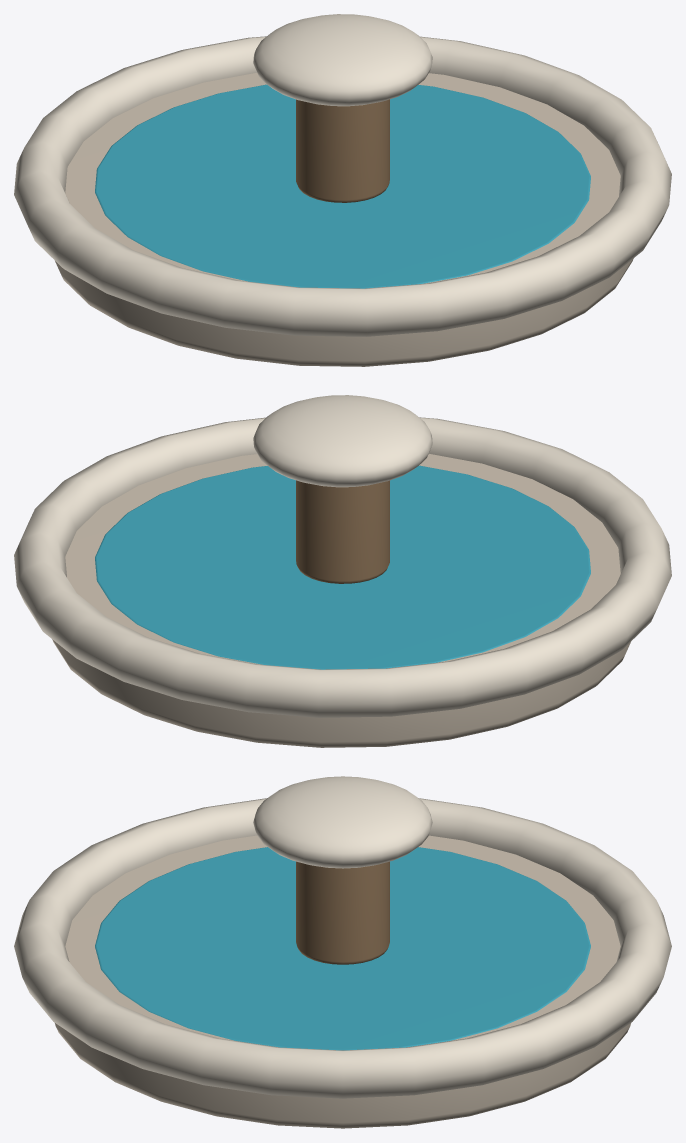
File: fountain_district_lod1_v2.glb
3 views of the same model, one above another, from view 1: azimuth 30°, elevation 25°; view 2: azimuth 150°, elevation 25°; view 3: azimuth 270°, elevation 25° (orthographic).
Parts seen in each view (by area): view 1: LOD1_FOUNTAIN_DISTRICT_Water, LOD1_FOUNTAIN_DISTRICT_SeatRing, LOD1_FOUNTAIN_DISTRICT_Basin, LOD1_FOUNTAIN_DISTRICT_Cap, LOD1_FOUNTAIN_DISTRICT_Stem; view 2: LOD1_FOUNTAIN_DISTRICT_Water, LOD1_FOUNTAIN_DISTRICT_SeatRing, LOD1_FOUNTAIN_DISTRICT_Basin, LOD1_FOUNTAIN_DISTRICT_Cap, LOD1_FOUNTAIN_DISTRICT_Stem; view 3: LOD1_FOUNTAIN_DISTRICT_Water, LOD1_FOUNTAIN_DISTRICT_SeatRing, LOD1_FOUNTAIN_DISTRICT_Basin, LOD1_FOUNTAIN_DISTRICT_Cap, LOD1_FOUNTAIN_DISTRICT_Stem.
Boxes of the visible parts, <box> form: LOD1_FOUNTAIN_DISTRICT_Water: <box>95,84,590,288</box>; LOD1_FOUNTAIN_DISTRICT_SeatRing: <box>14,36,671,336</box>; LOD1_FOUNTAIN_DISTRICT_Basin: <box>55,73,633,366</box>; LOD1_FOUNTAIN_DISTRICT_Cap: <box>253,14,432,106</box>; LOD1_FOUNTAIN_DISTRICT_Stem: <box>296,99,389,202</box>; LOD1_FOUNTAIN_DISTRICT_Water: <box>95,465,590,669</box>; LOD1_FOUNTAIN_DISTRICT_SeatRing: <box>14,417,671,717</box>; LOD1_FOUNTAIN_DISTRICT_Basin: <box>52,454,630,747</box>; LOD1_FOUNTAIN_DISTRICT_Cap: <box>253,395,432,487</box>; LOD1_FOUNTAIN_DISTRICT_Stem: <box>296,480,389,583</box>; LOD1_FOUNTAIN_DISTRICT_Water: <box>95,847,590,1050</box>; LOD1_FOUNTAIN_DISTRICT_SeatRing: <box>14,798,671,1098</box>; LOD1_FOUNTAIN_DISTRICT_Basin: <box>55,835,630,1128</box>; LOD1_FOUNTAIN_DISTRICT_Cap: <box>253,776,432,868</box>; LOD1_FOUNTAIN_DISTRICT_Stem: <box>296,861,389,964</box>.
Size of what is drawn, in the model's own units: 7.7 by 2.74 by 7.7.
